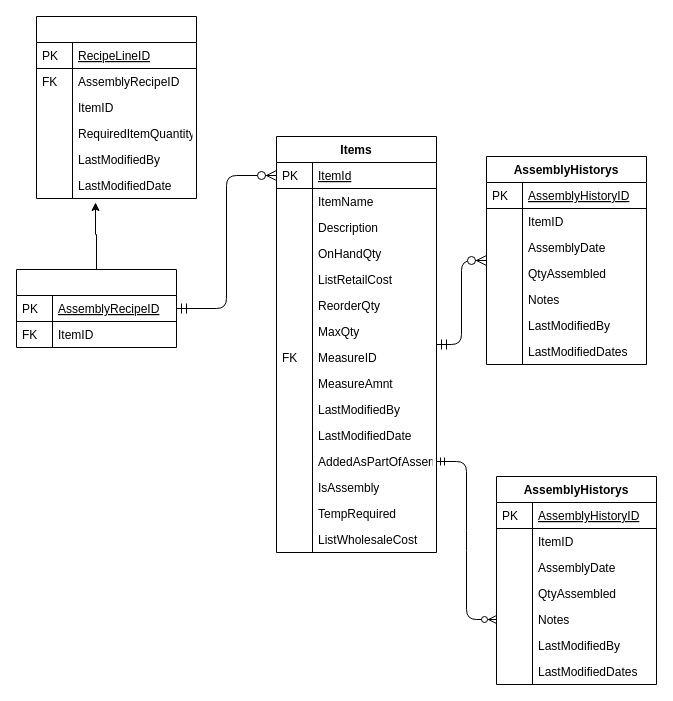
Image size: 673x701. Some labels were removed from this diagram. The shapes that lost their labels are listed below. From the top down, each one's box as (x1, y1, x2, y2) in pixels, then its label:
(36, 16, 196, 198): RecipeLines
(16, 268, 176, 348): AssemblyRecipes
